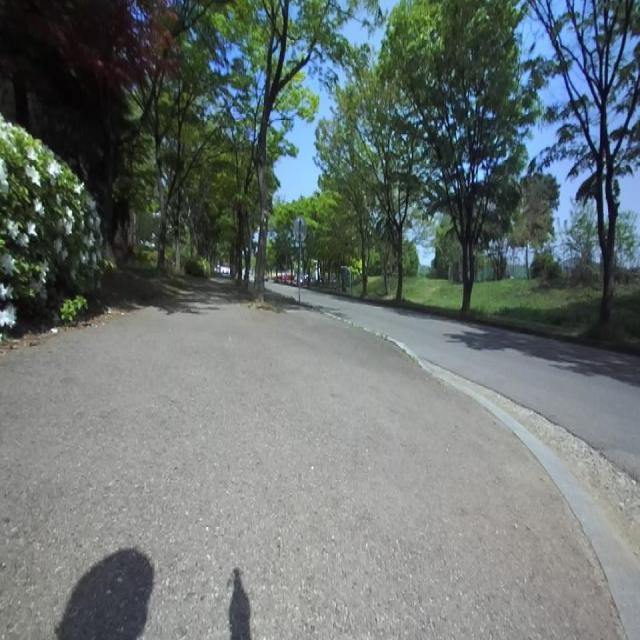sidewalk: (0, 284, 624, 639), (366, 328, 640, 640)
